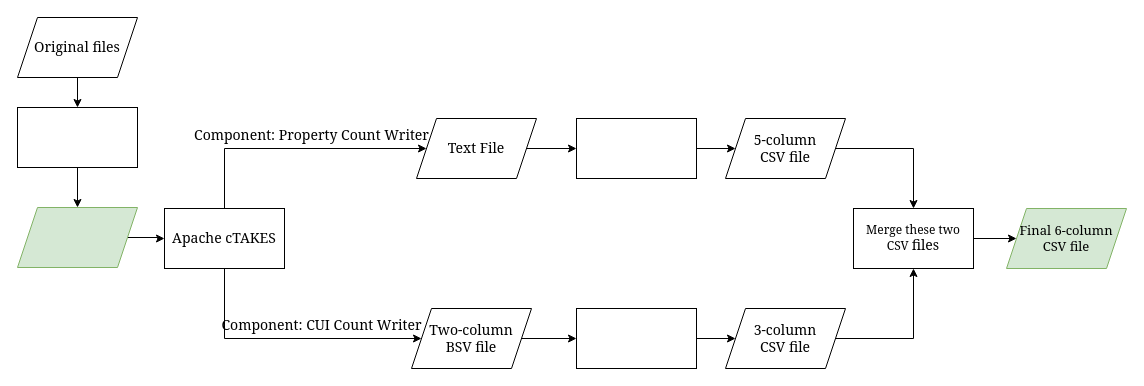
Some shapes in this 1144 by 386 pixel diagram are drawn without their labels. Here are the shapes that lost their labels. From the top down, the box of each, then its label:
(16, 106, 138, 168): Data Preparation
(576, 118, 696, 178): Data Extraction with Python
(16, 206, 138, 268): Input: Text files
(576, 308, 696, 368): Convert file format
